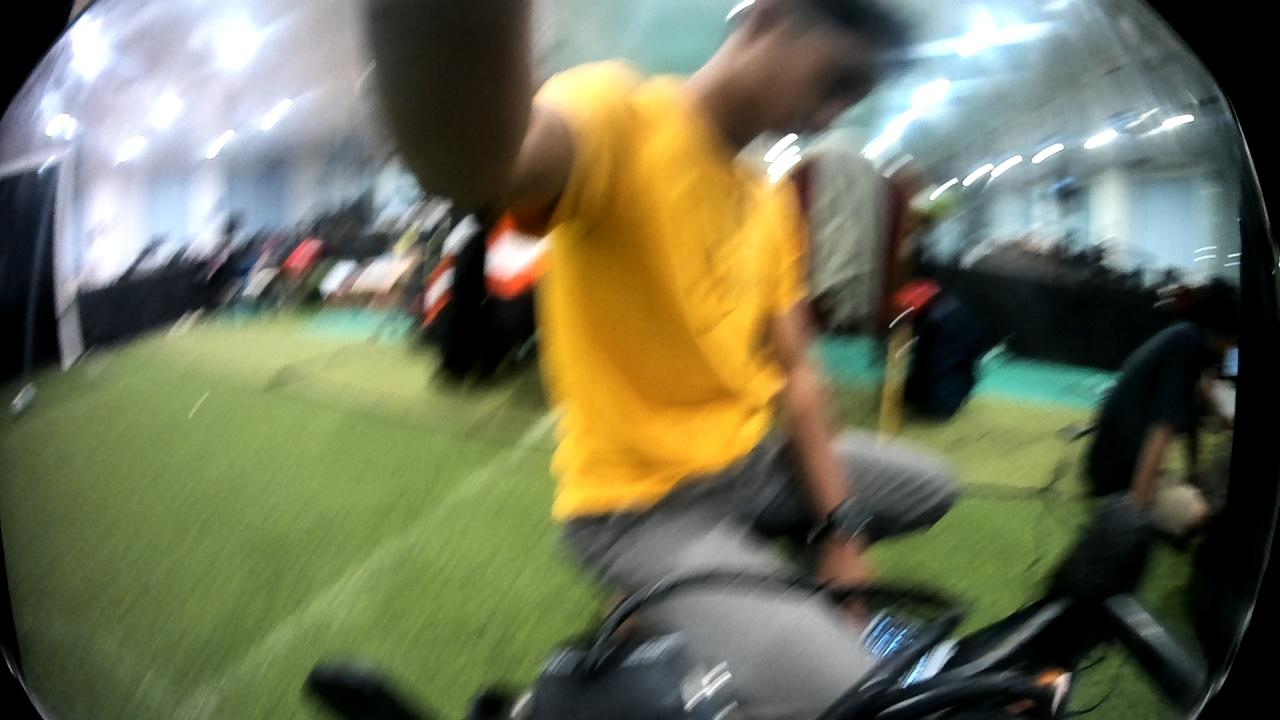ball: (6, 383, 46, 419)
